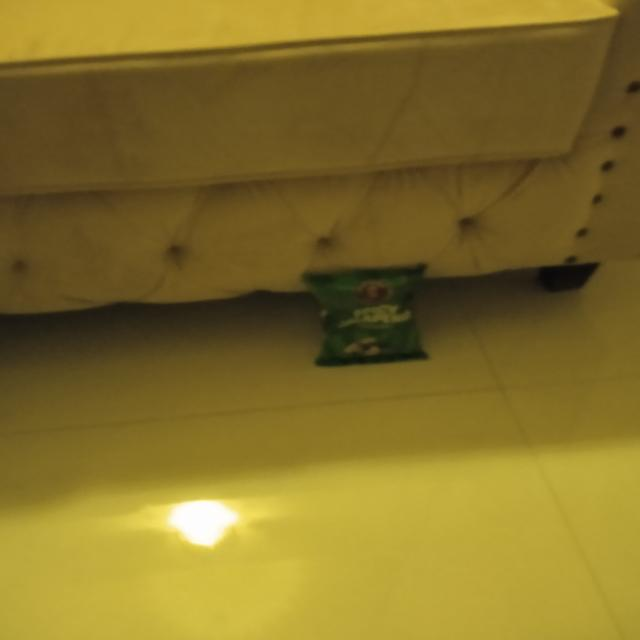Plastic: (314, 266, 427, 362)
